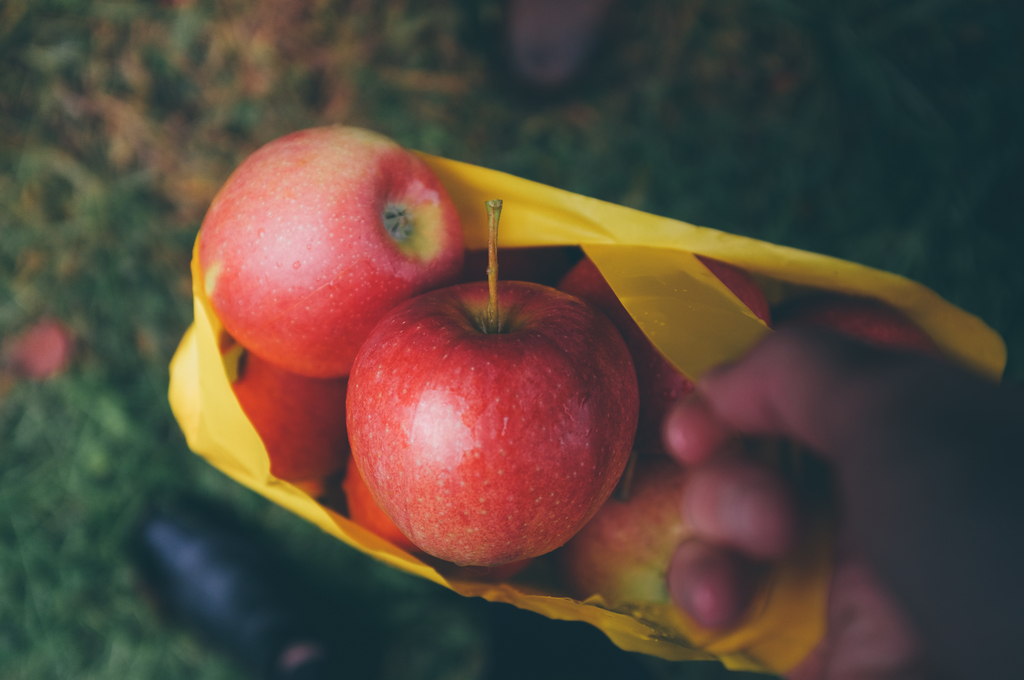Apple: (350, 253, 642, 585), (193, 126, 461, 382), (557, 254, 772, 457), (342, 461, 541, 586), (563, 456, 696, 609), (215, 336, 351, 478), (787, 294, 938, 352)
